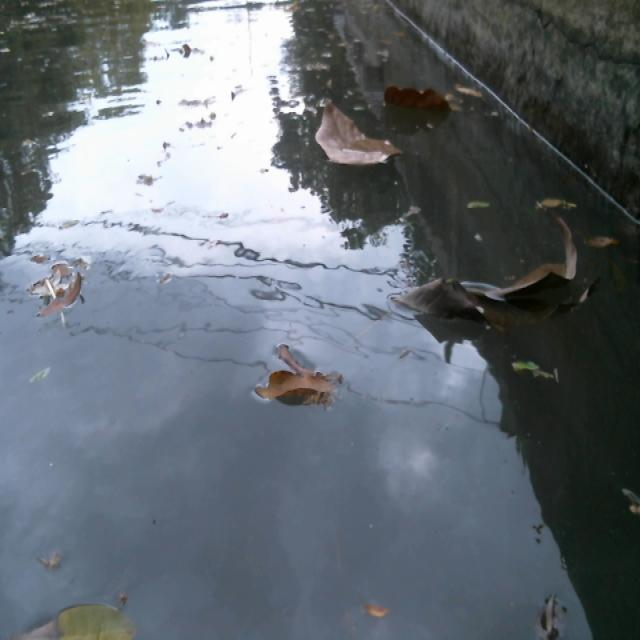Big-leaf: (391, 219, 579, 337), (249, 335, 344, 416), (313, 102, 397, 176), (372, 80, 447, 123)
Small-leaf: (38, 241, 107, 323), (8, 602, 143, 640), (514, 345, 572, 405), (522, 585, 567, 635), (612, 489, 640, 548), (346, 594, 398, 625), (456, 75, 493, 118), (537, 188, 583, 219), (591, 224, 618, 265), (465, 194, 495, 215)
